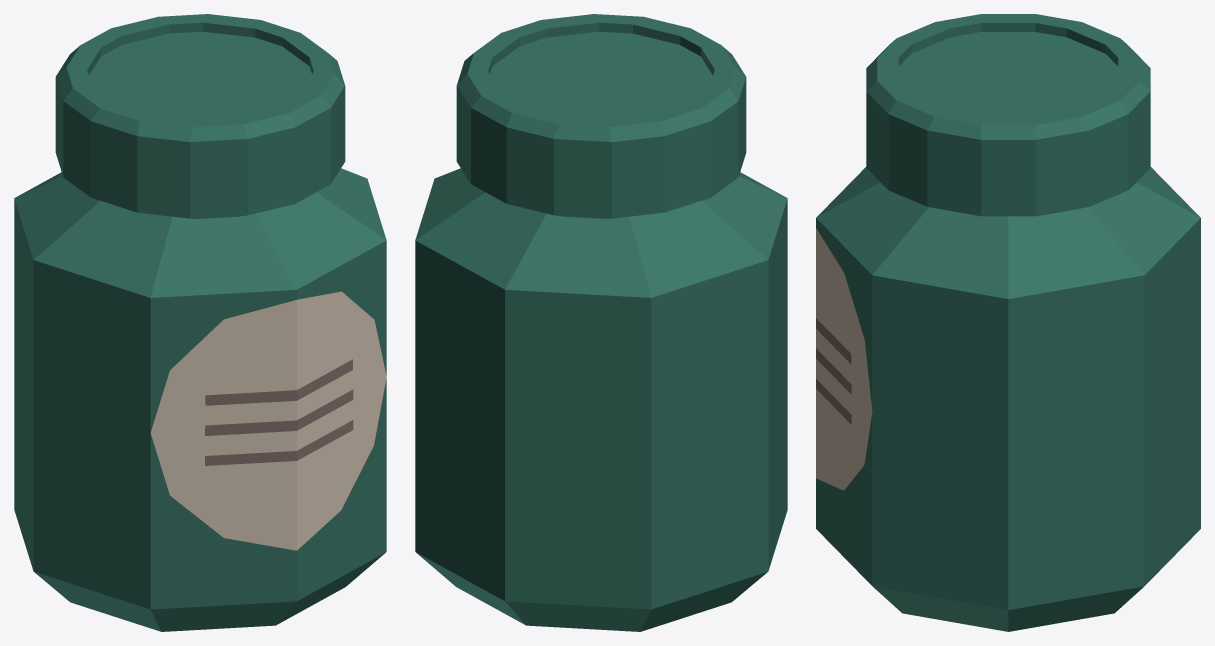
The model's file is SM_Props_Medical_08.fbx.
3 views of the same model, side by side, from view 1: azimuth 30°, elevation 25°; view 2: azimuth 150°, elevation 25°; view 3: azimuth 270°, elevation 25° (orthographic).
Visible parts, largest first — view 1: SM_Props_Medical_08; view 2: SM_Props_Medical_08; view 3: SM_Props_Medical_08.
Part boxes in pixels (box(x1,y1,x2,y2)): SM_Props_Medical_08: box(14, 14, 386, 631); SM_Props_Medical_08: box(415, 14, 787, 631); SM_Props_Medical_08: box(816, 14, 1200, 631).
Size of the model in its own units: 0.0772 by 0.1105 by 0.0772.
